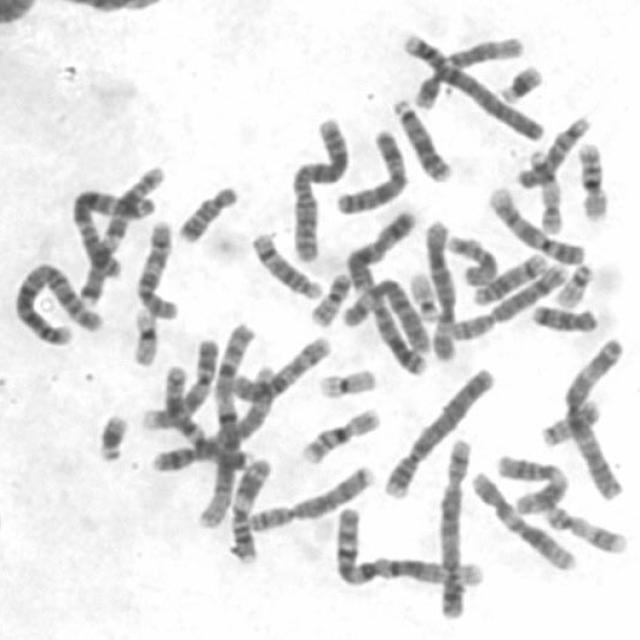A1: (196, 320, 256, 529), (335, 506, 484, 587)
A2: (290, 117, 350, 264), (14, 261, 106, 347)
A3: (563, 336, 624, 502), (70, 188, 156, 278)
B4: (402, 32, 546, 143), (382, 367, 496, 501)
B5: (150, 364, 276, 472), (438, 438, 472, 620)
C10: (231, 335, 332, 404), (134, 220, 179, 321)
C11: (496, 452, 571, 516), (229, 457, 271, 566)
C12: (469, 471, 578, 572), (414, 37, 525, 111)
C6: (340, 276, 433, 356), (422, 218, 458, 364)
C7: (77, 164, 166, 308), (164, 365, 255, 471)
C8: (450, 261, 570, 341), (247, 465, 375, 534)
C9: (486, 184, 586, 266), (139, 338, 220, 431)
D13: (391, 98, 454, 183), (367, 292, 428, 379)
D14: (249, 232, 324, 301), (472, 252, 549, 307)
D15: (516, 113, 592, 190), (445, 233, 500, 287)
E16: (299, 406, 381, 464), (577, 143, 610, 222)
E17: (543, 504, 628, 555), (528, 148, 564, 236)
E18: (177, 186, 238, 244), (530, 305, 598, 333)
F19: (318, 369, 378, 399), (130, 306, 158, 367)
F20: (541, 398, 601, 447), (309, 273, 352, 328)
G21: (498, 65, 544, 104), (98, 413, 128, 463)
G22: (554, 262, 594, 308), (408, 272, 440, 324)
X: (335, 127, 410, 215), (345, 209, 417, 296)
